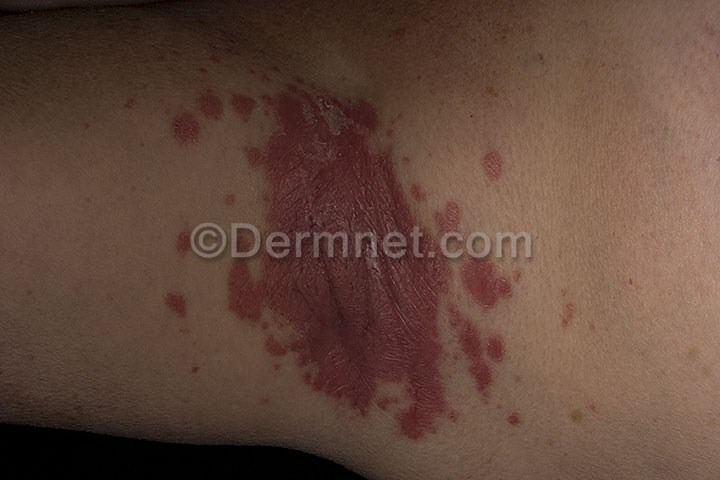Psoriasis: (206, 82, 508, 423)
